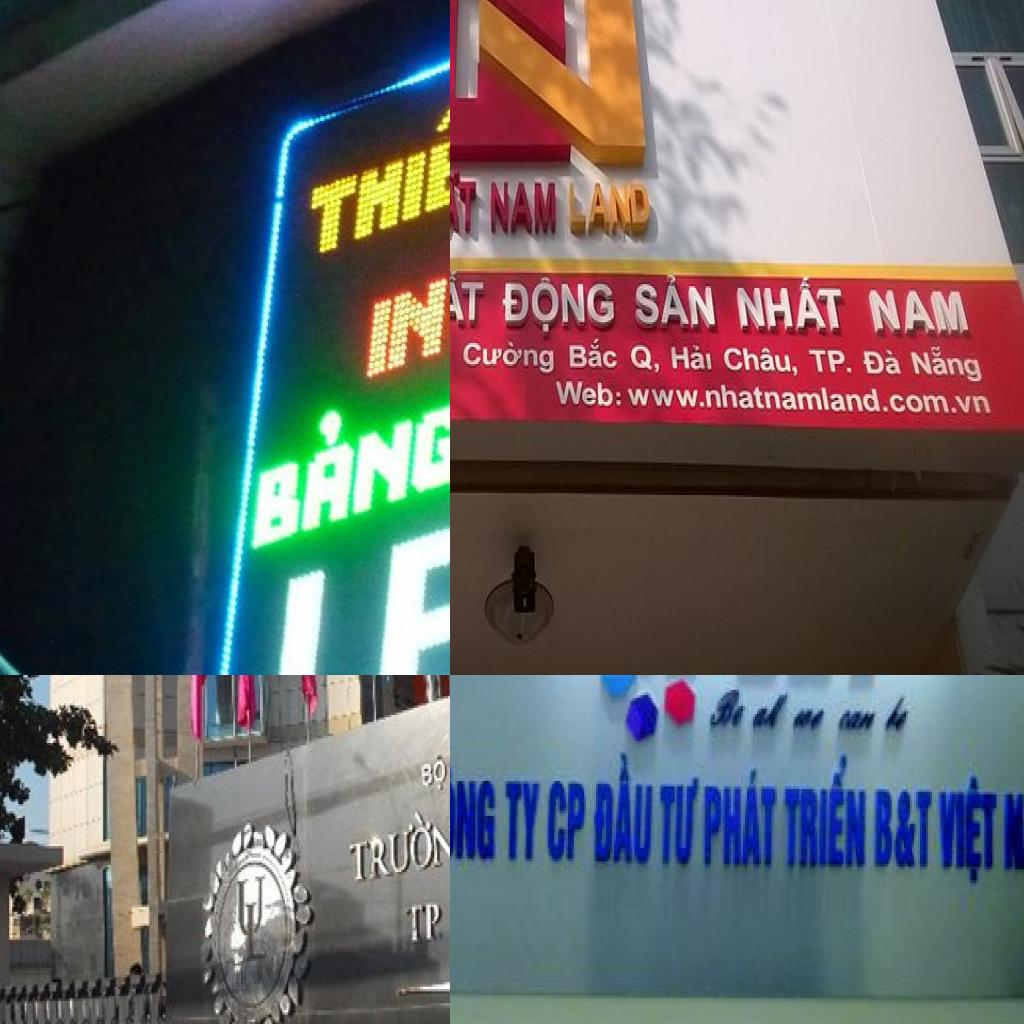text: (250, 362, 450, 551), (264, 477, 450, 675), (310, 48, 450, 258), (451, 0, 591, 109), (781, 752, 874, 870), (346, 794, 450, 890), (362, 275, 450, 383), (703, 765, 779, 872), (594, 749, 661, 869), (936, 773, 1001, 888), (501, 274, 618, 336), (734, 272, 846, 334), (450, 757, 503, 867), (872, 784, 936, 872), (633, 272, 718, 330), (865, 290, 971, 335), (569, 182, 656, 234), (544, 778, 592, 867), (658, 776, 703, 870), (504, 778, 546, 870), (490, 180, 558, 236), (462, 336, 556, 376), (630, 338, 713, 378), (910, 345, 984, 385), (807, 347, 903, 377), (722, 345, 800, 379), (401, 896, 445, 950), (235, 869, 268, 940), (707, 687, 751, 733), (554, 379, 623, 408), (450, 267, 485, 324), (450, 164, 478, 234), (1002, 792, 1024, 875), (833, 703, 884, 738), (244, 900, 271, 966), (567, 337, 619, 370), (749, 692, 791, 732), (789, 703, 836, 738), (420, 750, 450, 795)
